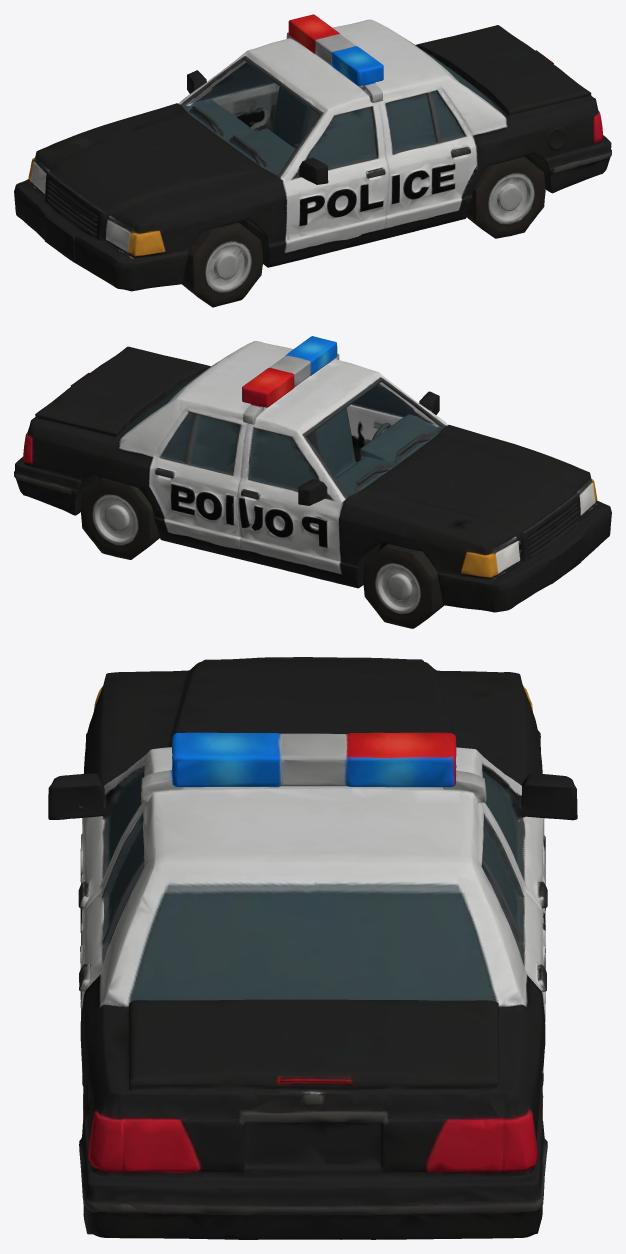
File: police_cruiser.glb
3 views of the same model, one above another, from view 1: azimuth 30°, elevation 25°; view 2: azimuth 150°, elevation 25°; view 3: azimuth 270°, elevation 25° (orthographic). The views are drawn at different scales.
Parts seen in each view (by area): view 1: geometry_0; view 2: geometry_0; view 3: geometry_0.
Part boxes in pixels (x1,y1,x2,y2): geometry_0: (14, 14, 611, 307); geometry_0: (14, 336, 611, 628); geometry_0: (48, 657, 577, 1239).
Size of the model in its own units: 4.6 by 1.58 by 2.1.
Materials: 1 (1 with a texture image).
